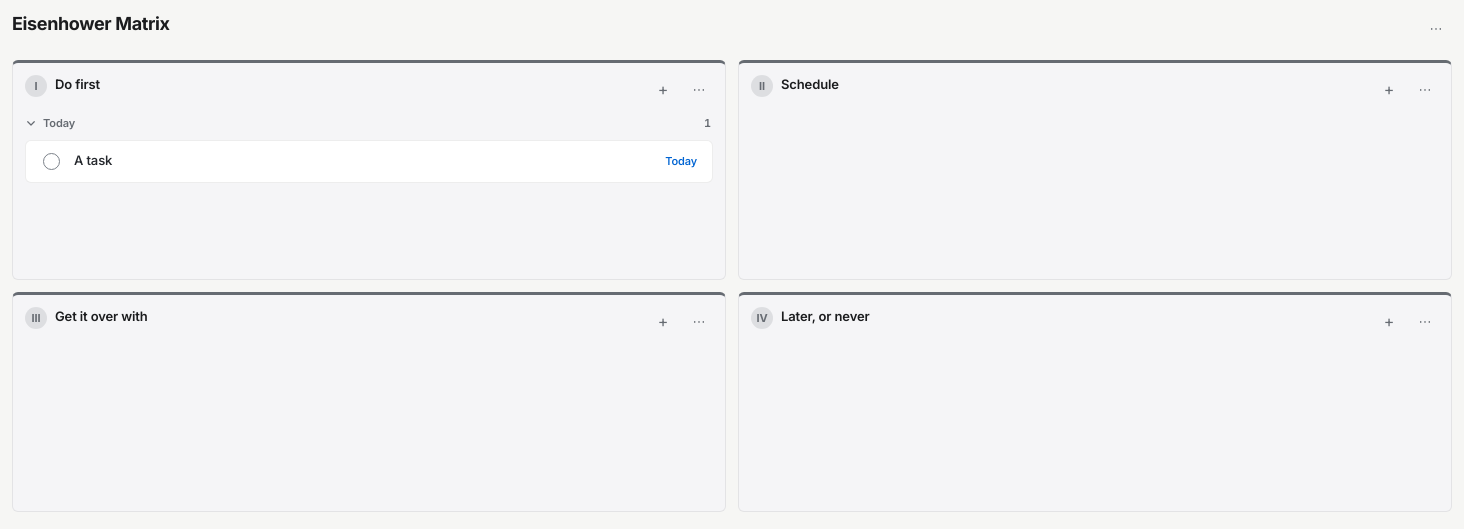
Test case: the box's ⋯ menu › says how the box is grouped and ordered without being opened twice
Click the button with class "ff-matrix-cell-menu" in the row of "Do first" at (699, 89), box [685,75,713,103]
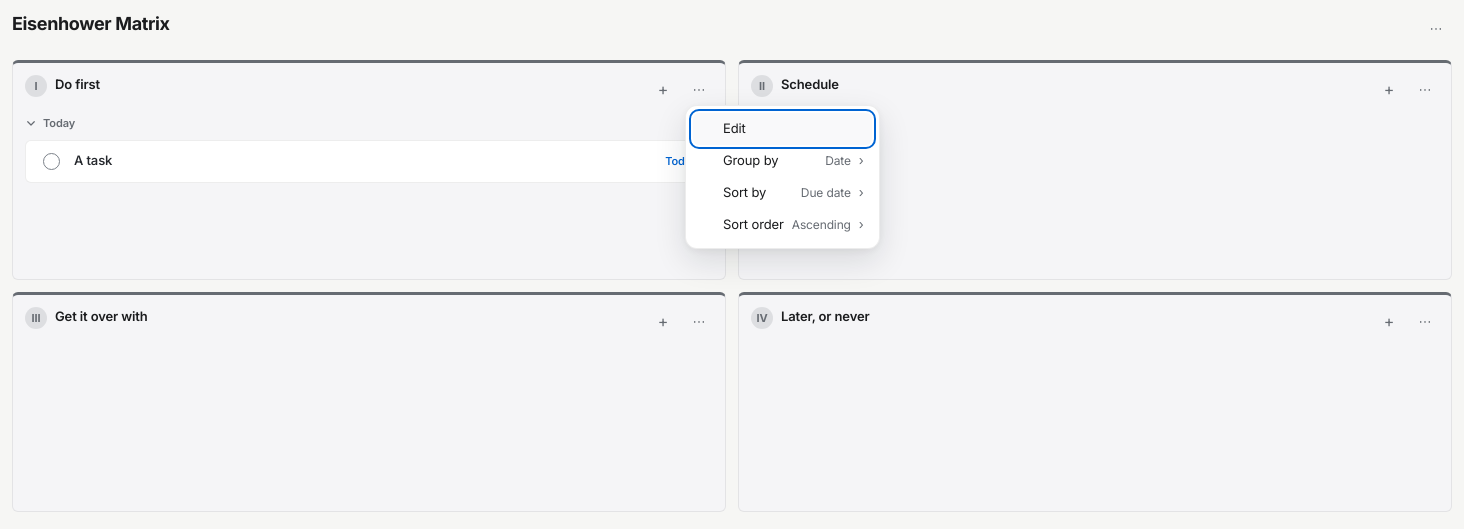
Now the menu item "Group by Date ›" is shown, box [693,145,872,177]
Now the menu item "Sort by Due date ›" is shown, box [693,177,872,209]
Now the menu item "Sort order Ascending ›" is shown, box [693,209,872,241]
